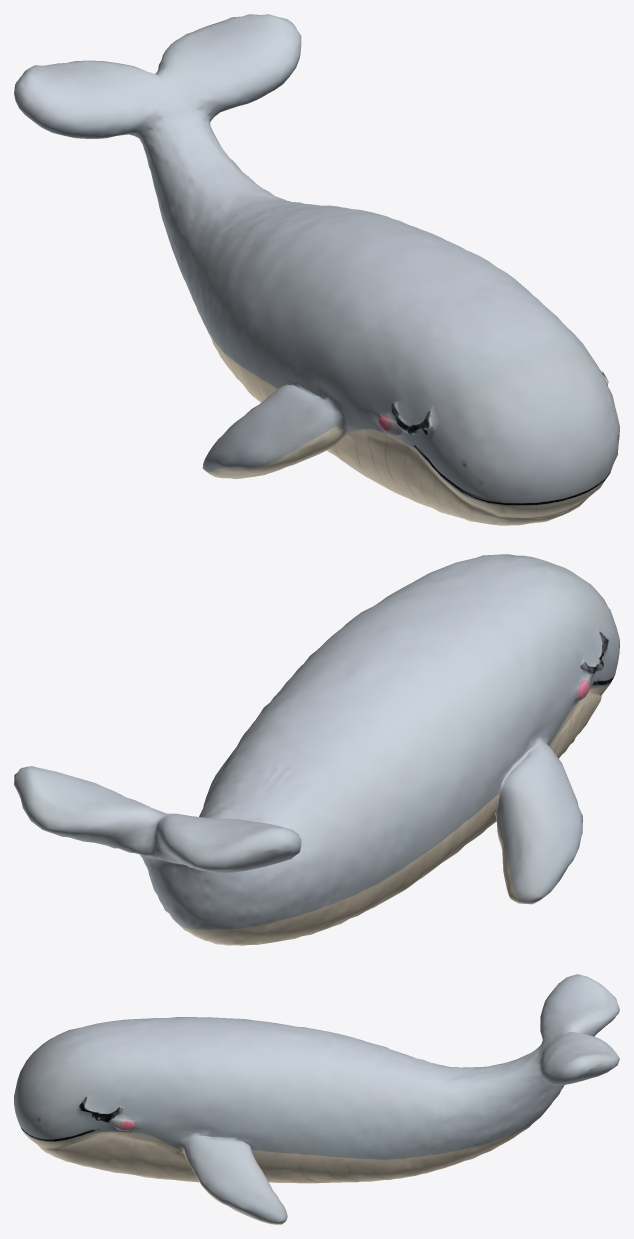
Rendered from wisp_whale_b.glb.
3 views of the same model, one above another, from view 1: azimuth 30°, elevation 25°; view 2: azimuth 150°, elevation 25°; view 3: azimuth 270°, elevation 25° (orthographic). The views are drawn at different scales.
Bounding box in the file's own units: 0.8728 × 0.544 × 1.91.
1 material, 1 textured.
